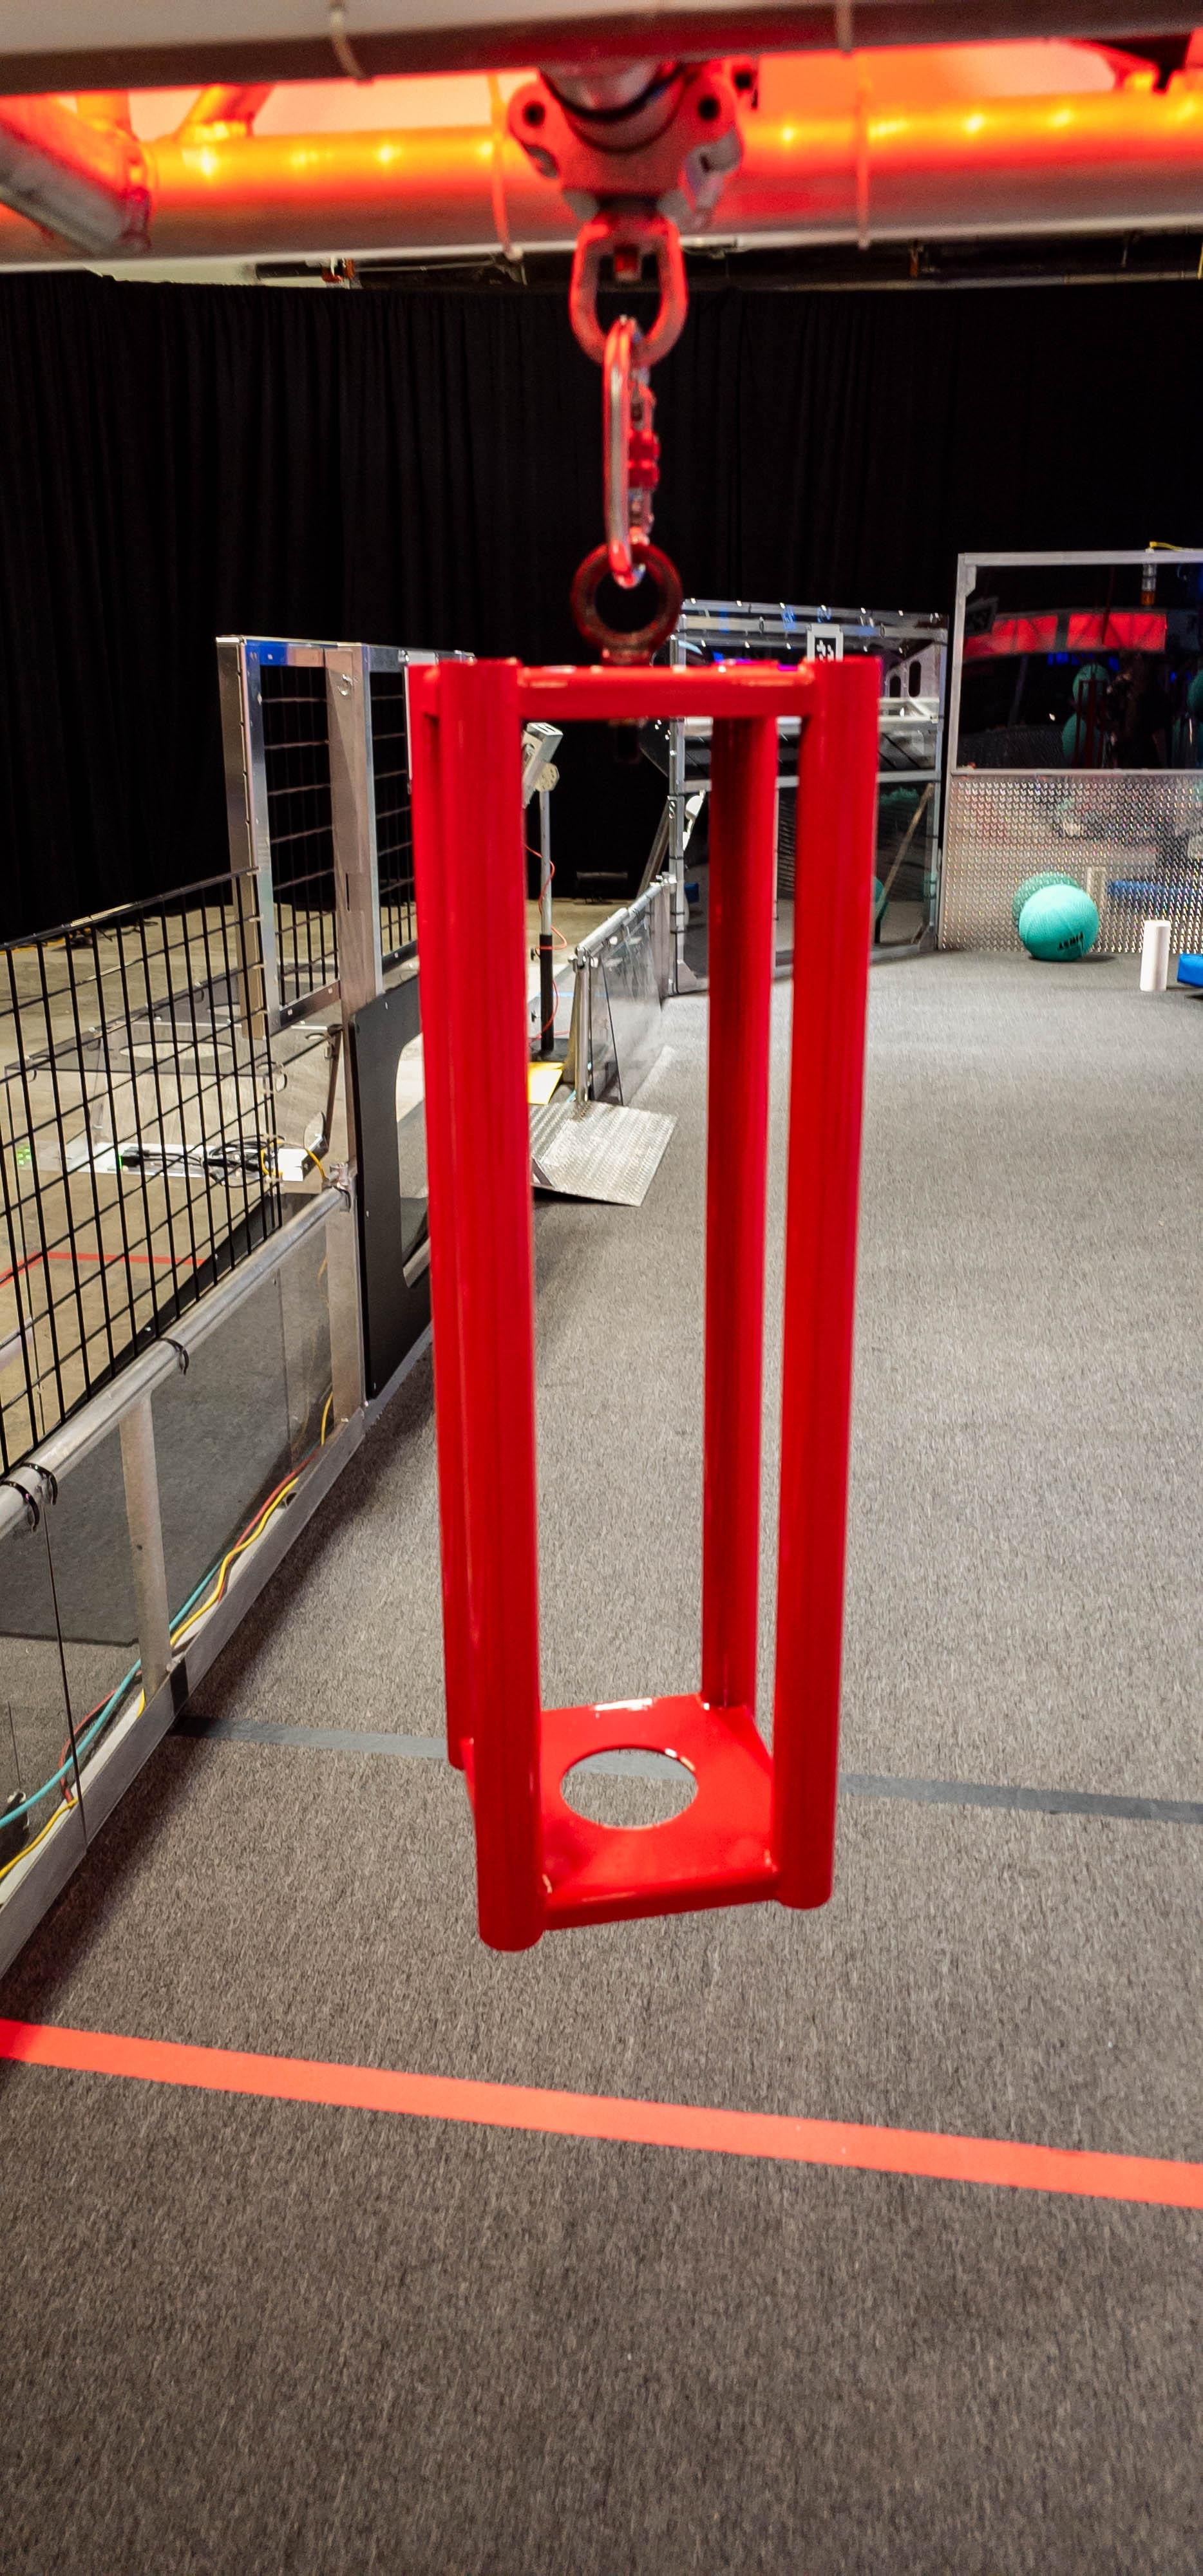ALGAE: (1017, 885, 1099, 963)
CORAL: (1139, 920, 1170, 992)
